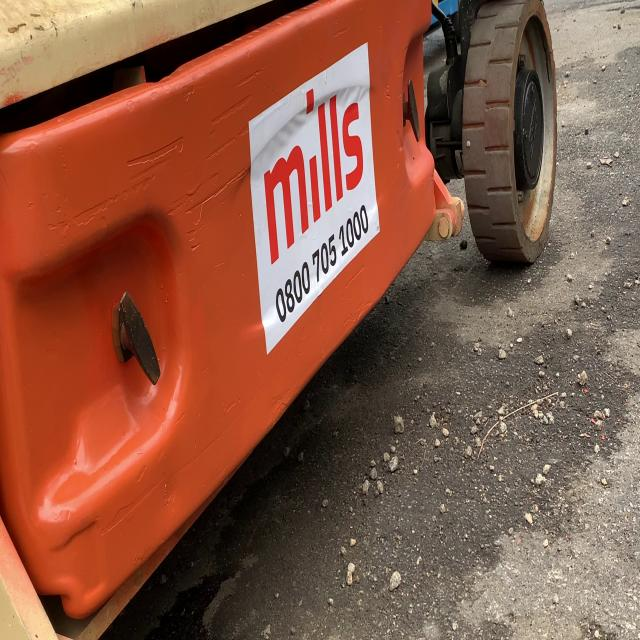Adesivos: (246, 38, 382, 365)
